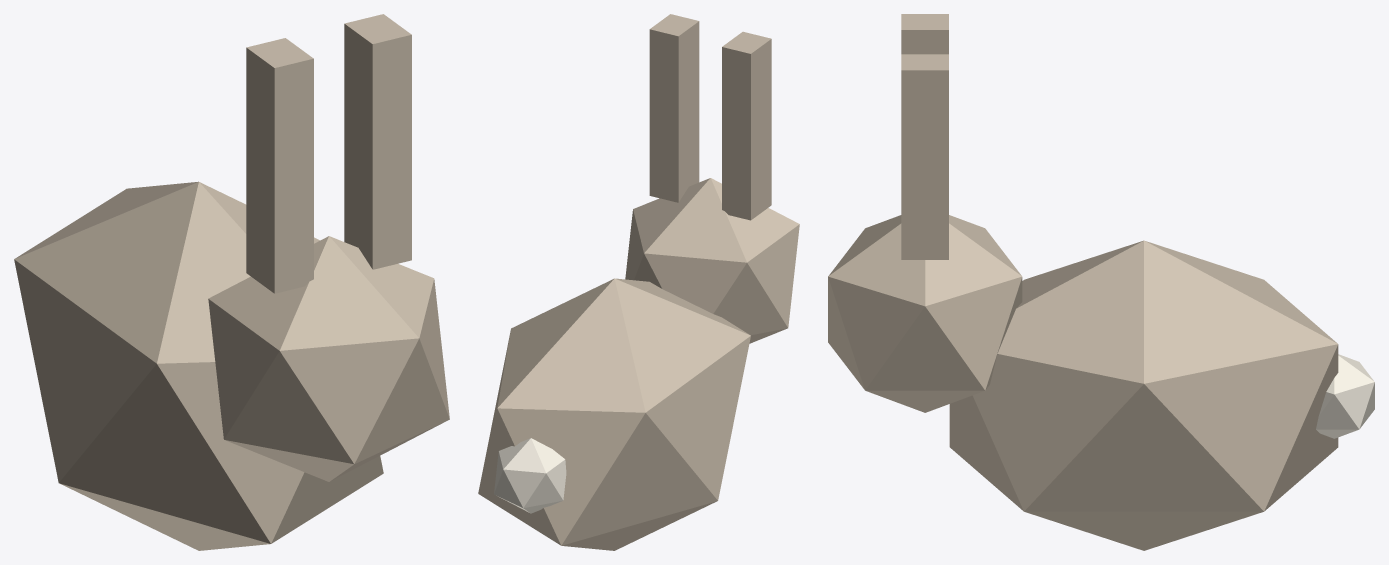
File: rabbit.glb
The picture shows the model from 3 angles, left to right: view 1: azimuth 30°, elevation 25°; view 2: azimuth 150°, elevation 25°; view 3: azimuth 270°, elevation 25°; orthographic projection. The views are drawn at different scales.
Parts seen in each view (by area): view 1: rabbit; view 2: rabbit; view 3: rabbit.
Boxes of the visible parts, x1,y1,x2,y2 form: rabbit: (14, 14, 449, 550); rabbit: (478, 14, 799, 550); rabbit: (828, 14, 1374, 550).
Bounding box in the file's own units: 0.2862 × 0.59 × 0.5746.
